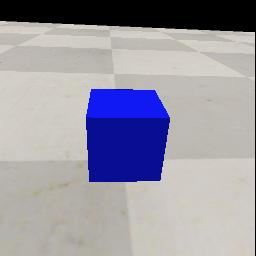box: (86, 89, 170, 182)
